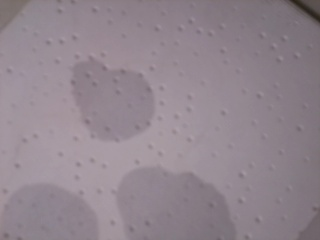Water_detected: (128, 179, 207, 240), (74, 72, 135, 133)
